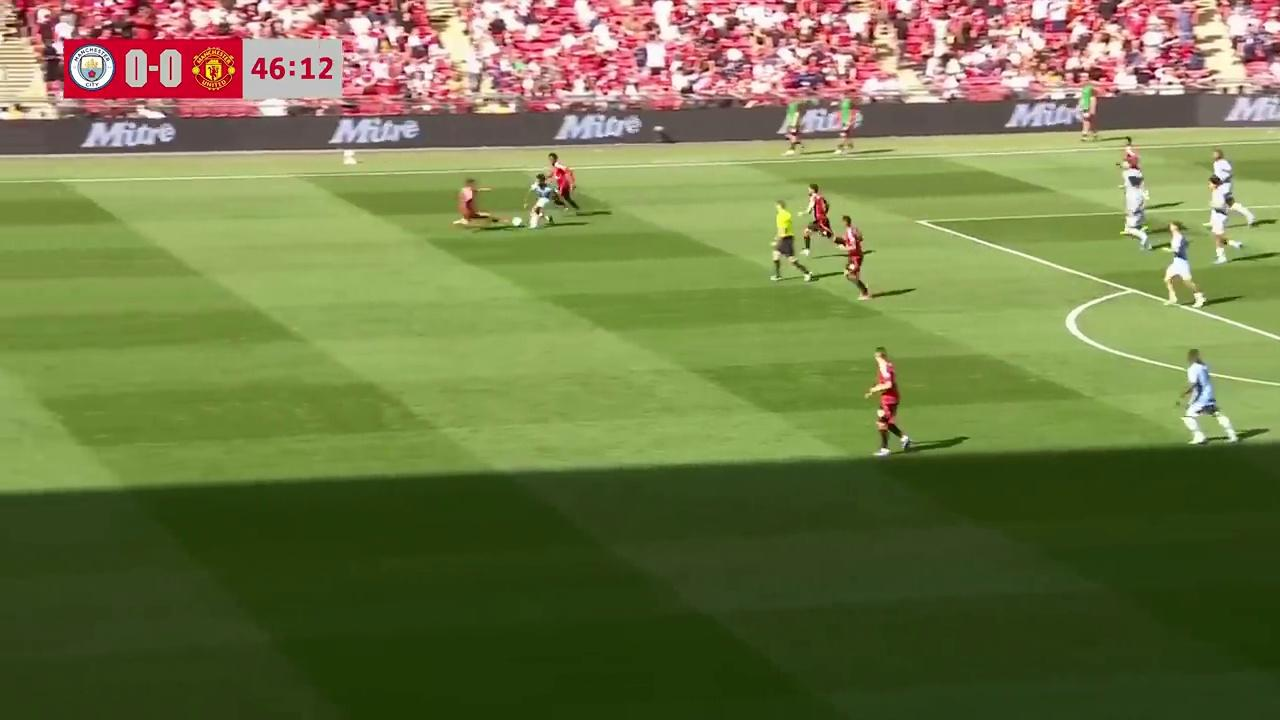ball: (511, 213, 523, 228)
player: (1177, 349, 1238, 444), (863, 346, 914, 455), (1161, 220, 1205, 308), (1208, 148, 1254, 225), (1208, 180, 1246, 263), (839, 216, 872, 298), (799, 183, 835, 253), (545, 155, 580, 216), (450, 178, 490, 231), (1120, 180, 1149, 251), (1117, 139, 1148, 204), (523, 172, 554, 229)
referee: (769, 199, 810, 282)
